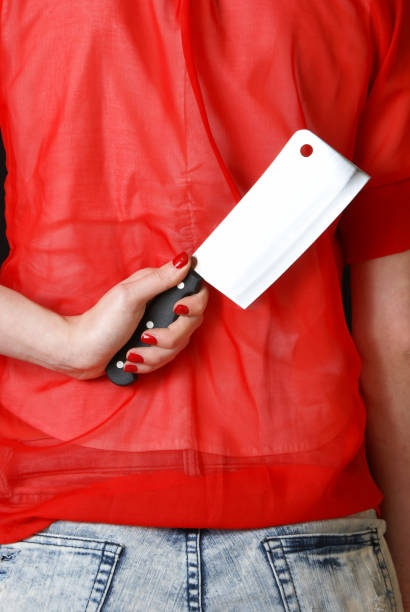knife: (98, 128, 372, 393)
